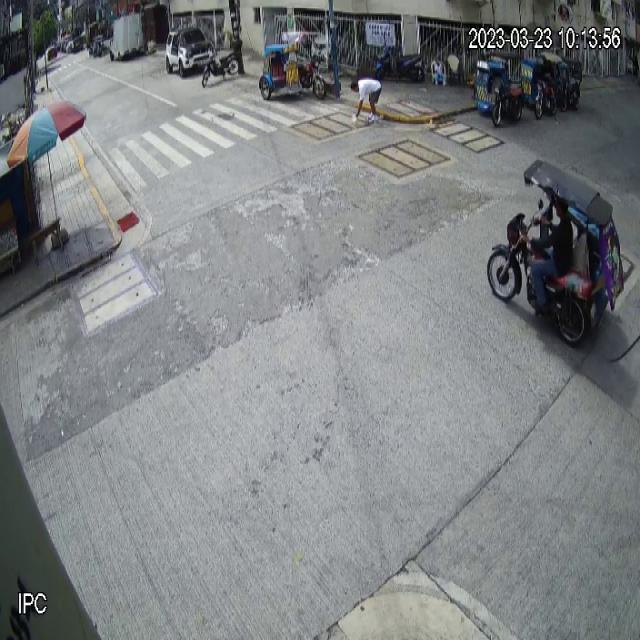Tricycle: (486, 157, 626, 348), (259, 29, 327, 101), (475, 51, 524, 128)
